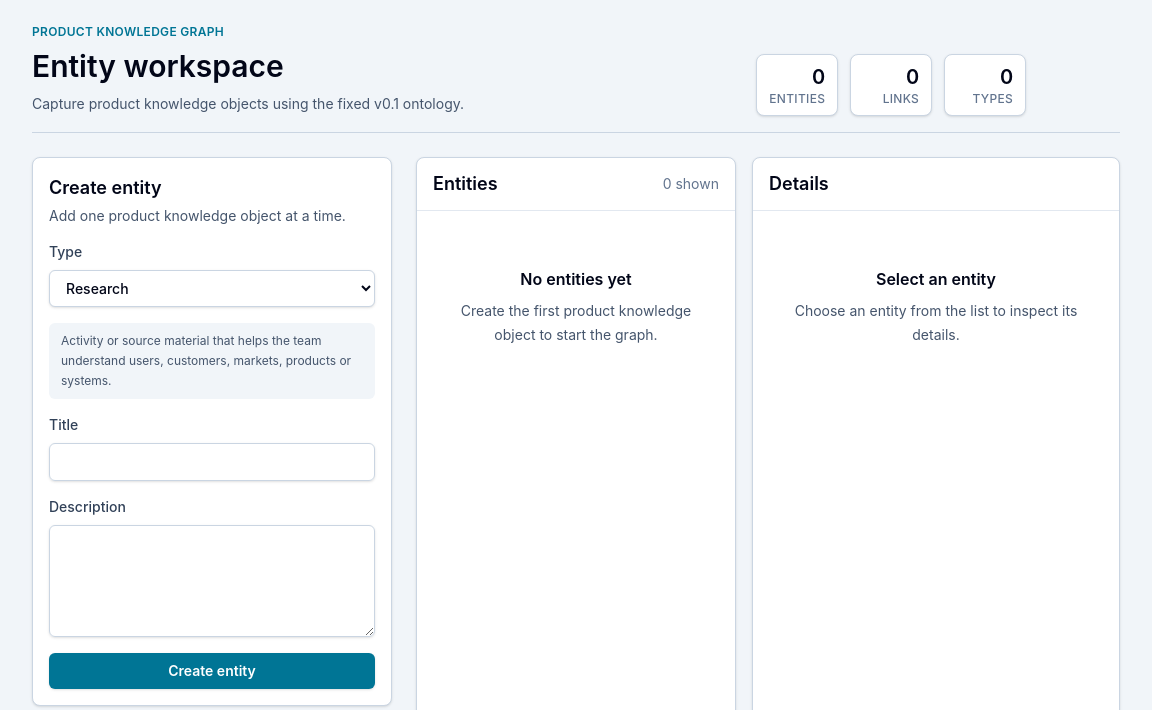
Test: App › creates and views an entity
Select "Insight" in the dropdown labelled "Type": (212, 288) [49,270,375,307]
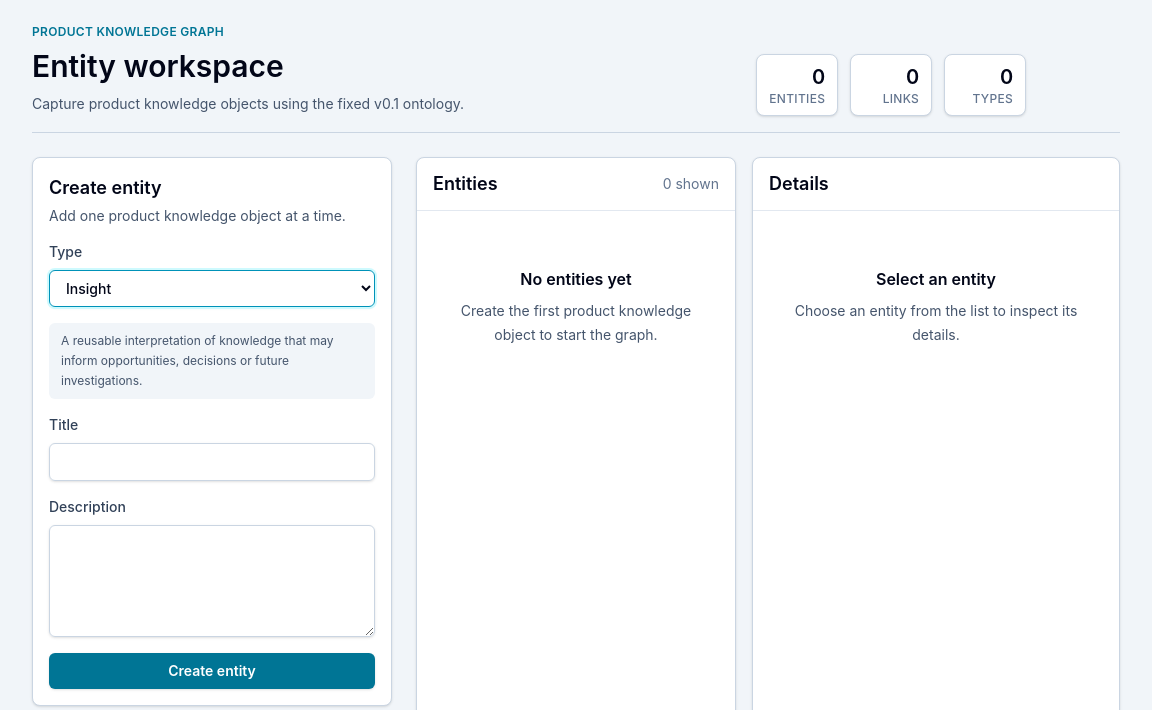
In the field labelled "Title": (212, 462) [49,443,375,481], type "Users miss onboarding value"
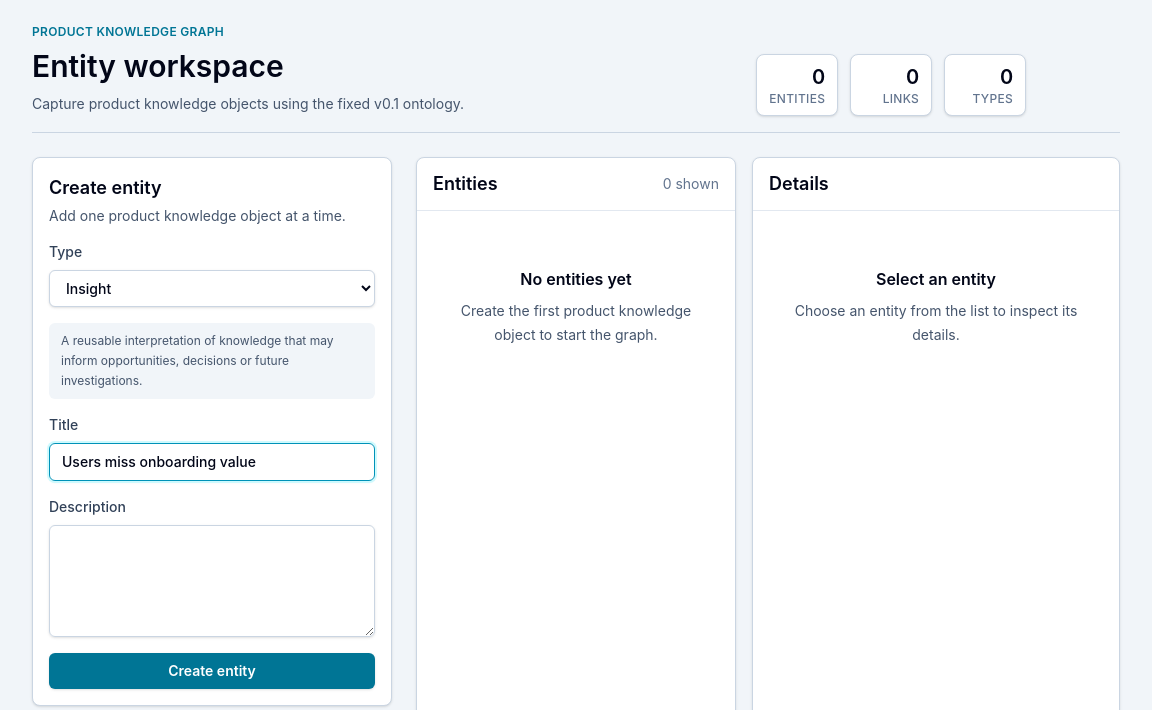
In the text box labelled "Description": (212, 581) [49,525,375,637], type "Research shows onboarding copy is unclear."
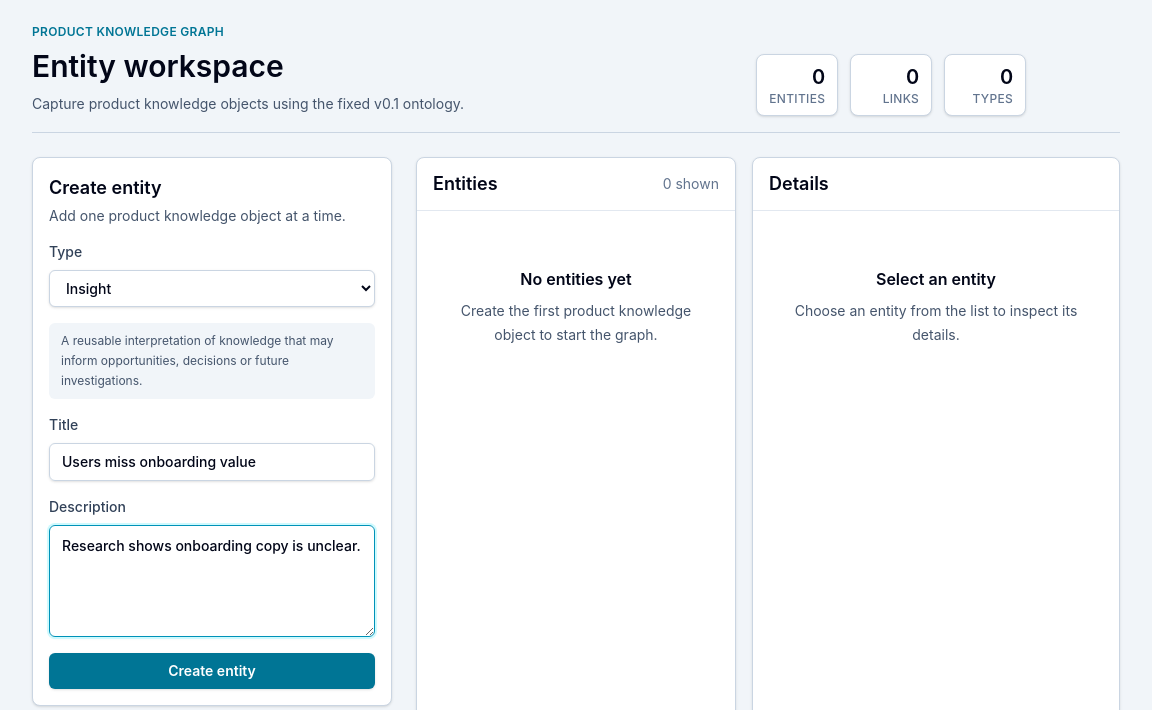
Click the button "Create entity": (212, 671) [49,653,375,689]
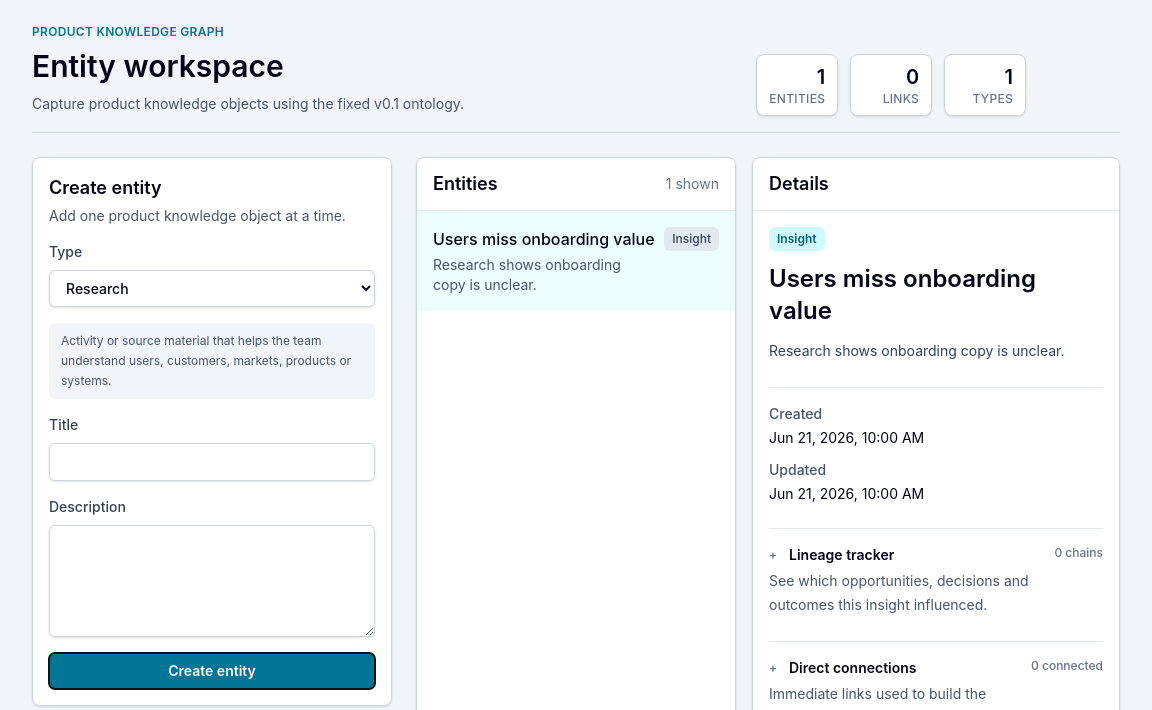
Expected: the text "Users miss onboarding value" is shown 2 times, [433,227,656,251]; [769,264,1036,325]
Expected: the text "Research shows onboarding copy is unclear." is shown 2 times, [433,256,621,293]; [769,339,1103,363]
